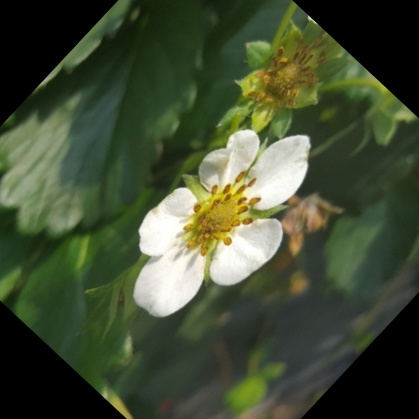Blossom_BT: (143, 0, 285, 112), (191, 152, 258, 256)
